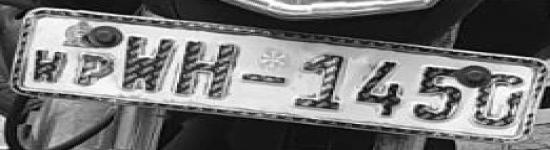-: (238, 71, 292, 90)
0: (470, 70, 532, 130)
1: (293, 52, 352, 114)
3: (75, 50, 118, 88), (28, 49, 71, 85)
4: (353, 57, 406, 120)
5: (409, 63, 464, 125)
H: (177, 40, 241, 100)
W: (121, 30, 176, 96)
